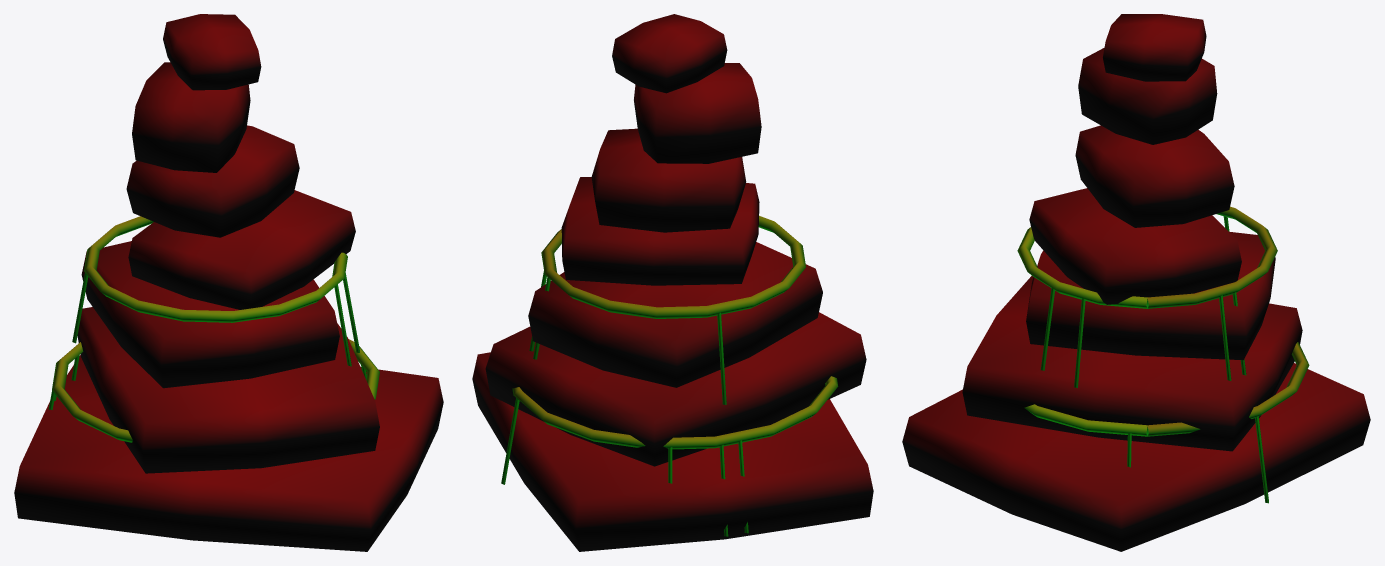
Rendered from cairn.glb.
3 renders of one model, left to right at view 1: azimuth 30°, elevation 25°; view 2: azimuth 150°, elevation 25°; view 3: azimuth 270°, elevation 25°, orthographic. The views are drawn at different scales.
Visible parts, largest first — view 1: cairn; view 2: cairn; view 3: cairn.
Part boxes in pixels (x1,y1,x2,y2): cairn: [14, 14, 443, 551]; cairn: [472, 14, 873, 551]; cairn: [902, 14, 1370, 551].
Size of what is drawn, in the model's own units: 1.48 by 1.55 by 1.48.
